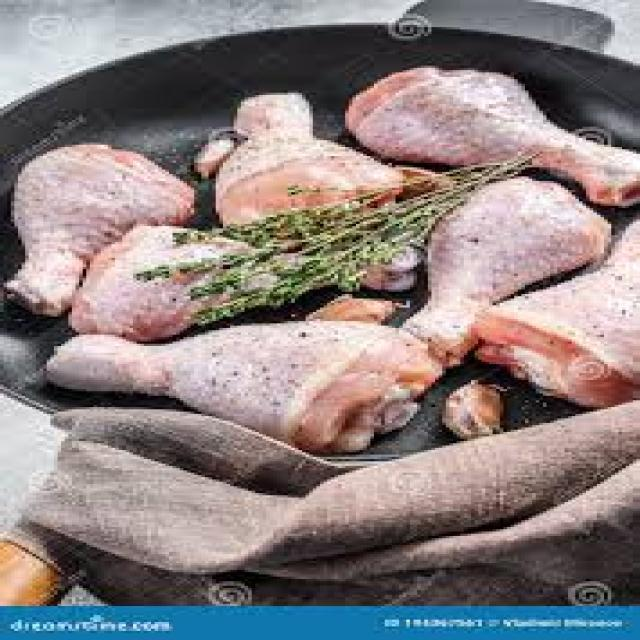leg: (48, 318, 446, 454), (350, 64, 636, 204), (394, 186, 596, 362), (78, 216, 392, 322), (494, 208, 640, 392), (8, 136, 166, 298), (209, 89, 390, 210)
